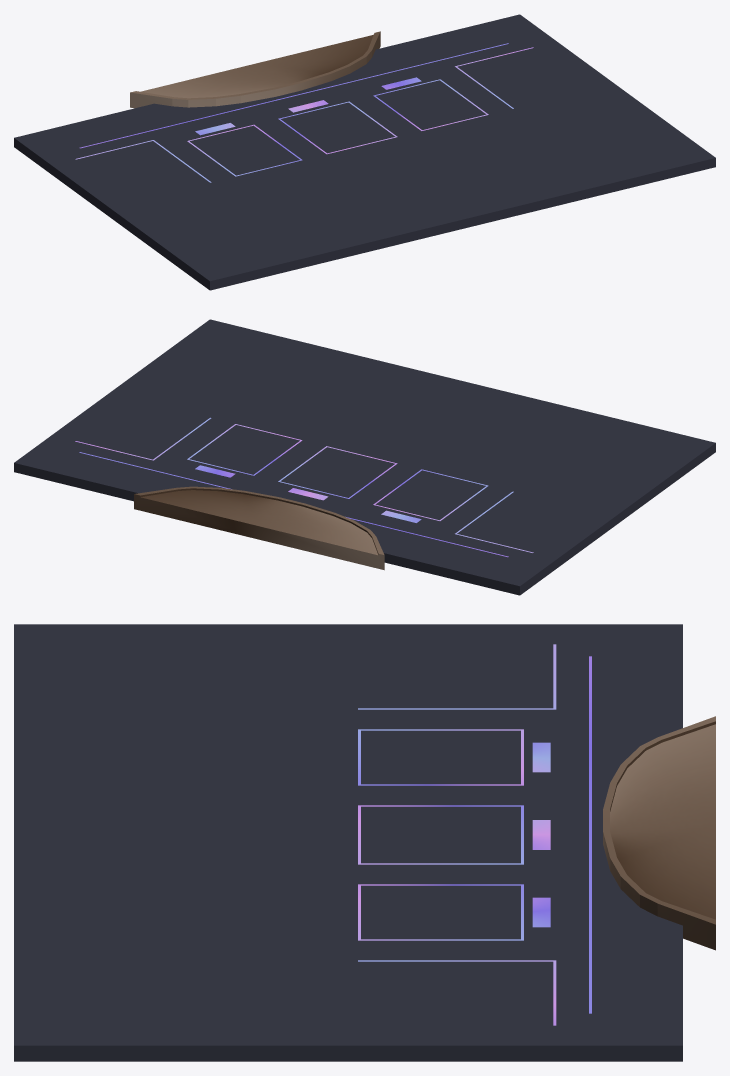
3 views of the same model, one above another, from view 1: azimuth 30°, elevation 25°; view 2: azimuth 150°, elevation 25°; view 3: azimuth 270°, elevation 25° (orthographic). The views are drawn at different scales.
Parts seen in each view (by area): view 1: floor2, Cube, Cylinder, Plane.003, Plane.002; view 2: floor2, Cube, Cylinder, Plane.003, Plane.002; view 3: floor2, Cube, Cylinder, Plane.003, Plane.002.
Part boxes in pixels (x1,y1,x2,y2): floor2: (109, 84, 715, 290); Cube: (14, 14, 614, 216); Cylinder: (130, 31, 380, 108); Plane.003: (75, 43, 533, 182); Plane.002: (195, 77, 421, 135); floor2: (109, 319, 715, 525); Cube: (14, 393, 615, 595); Cylinder: (134, 486, 384, 570); Plane.003: (75, 417, 533, 557); Plane.002: (195, 465, 421, 523); floor2: (14, 624, 357, 1061); Cube: (358, 624, 682, 1061); Cylinder: (603, 716, 715, 950); Plane.003: (358, 644, 591, 1025); Plane.002: (532, 742, 550, 927).
Size of the model in its own units: 7006 by 223 by 4933.
Materials: 3 (2 with a texture image).
